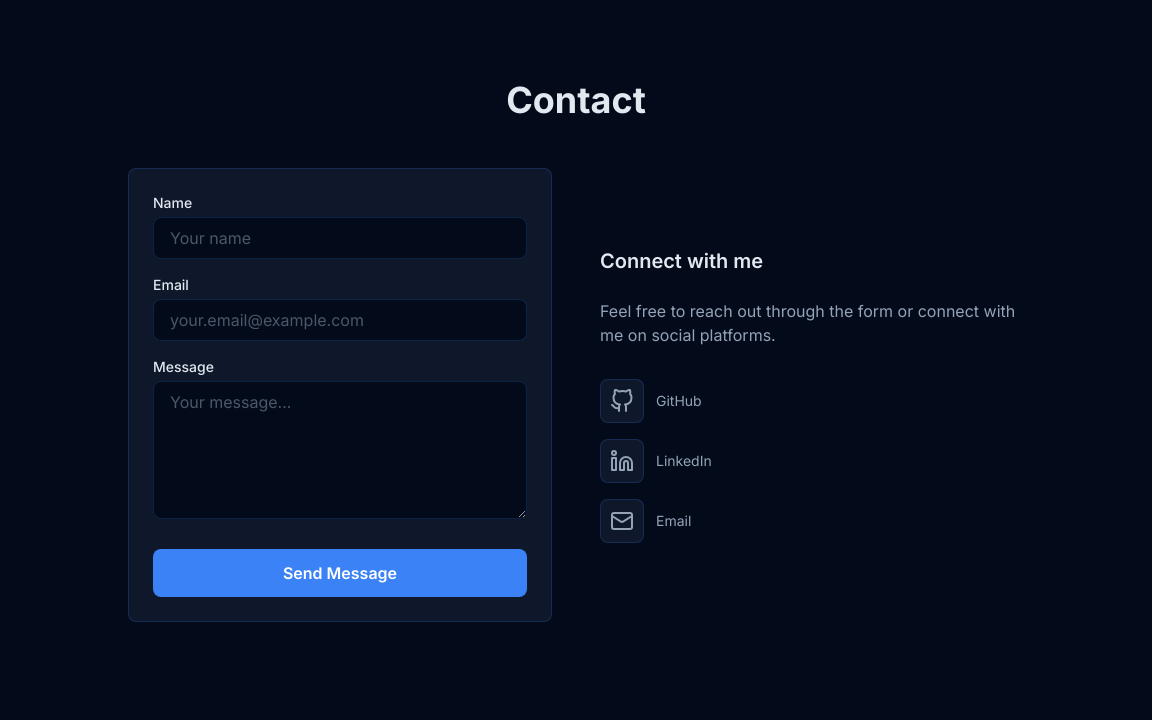
ContactSection › Form validation - empty fields › shows "Name is required" when submitting with empty name
The width and height of the screenshot is (1152, 720).
Click the button "Send Message". click: (340, 573)
box: [153,549,527,597]
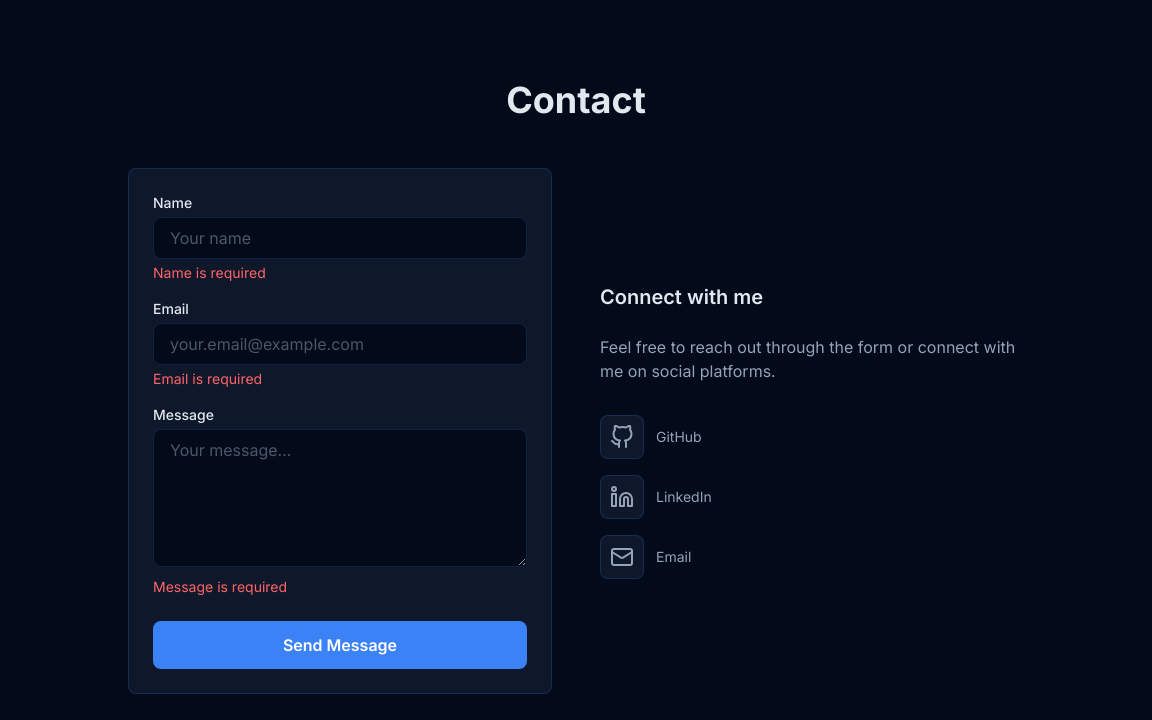
Result: the text "Name is required" is shown at [153,264,266,281]
